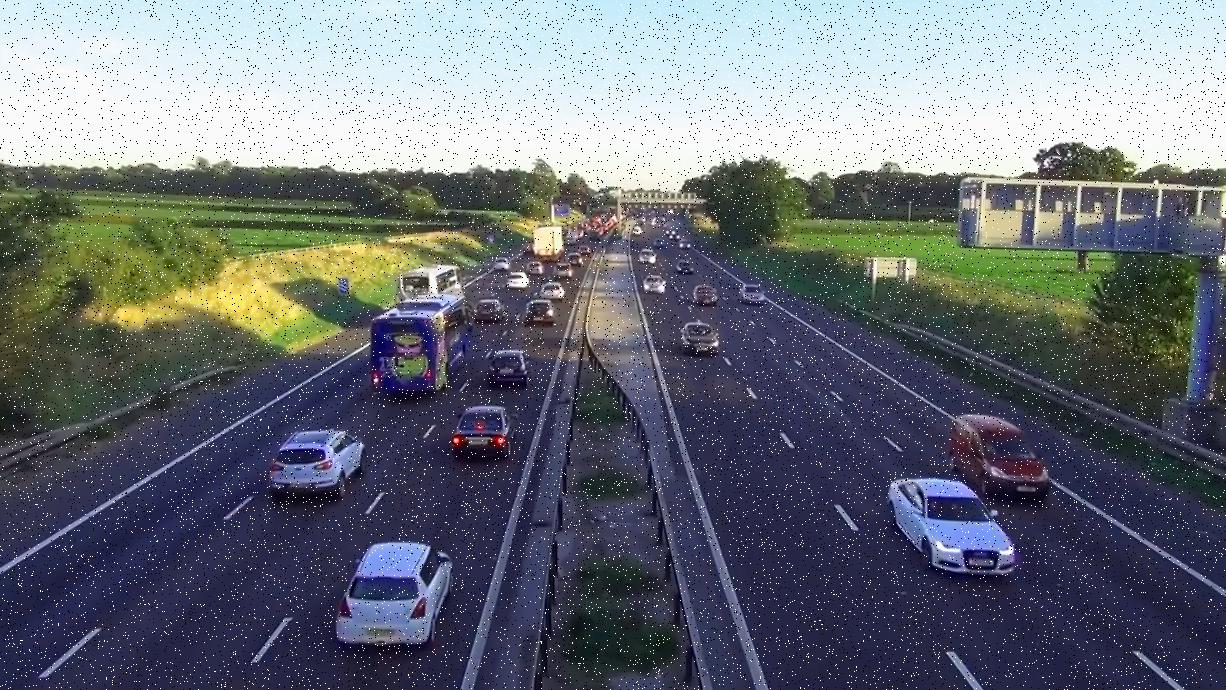bus: (368, 307, 460, 396), (400, 264, 463, 310)
car: (883, 475, 1018, 581), (342, 542, 457, 645), (955, 413, 1051, 500), (274, 426, 366, 500), (451, 408, 514, 455), (486, 349, 531, 387), (682, 322, 723, 355), (473, 299, 506, 325), (523, 301, 553, 325), (693, 285, 719, 305), (743, 285, 769, 302), (643, 276, 667, 293), (541, 282, 565, 298), (505, 275, 528, 289), (676, 258, 694, 274), (640, 249, 657, 262)
